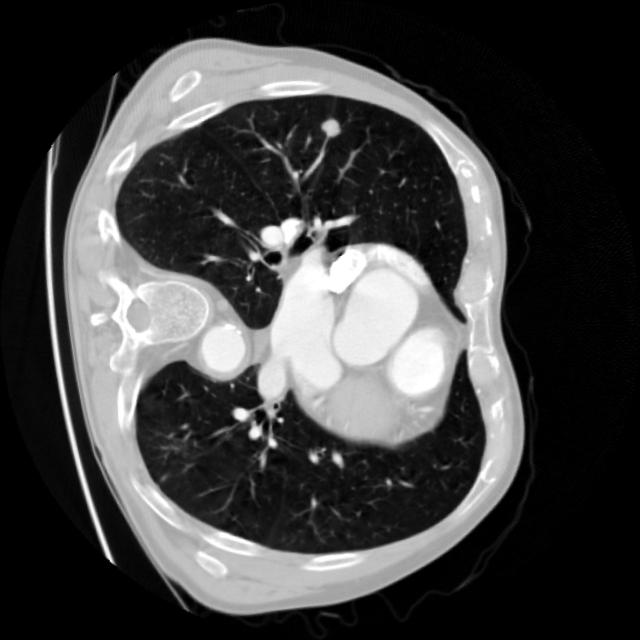nodule: (308, 102, 356, 150)
